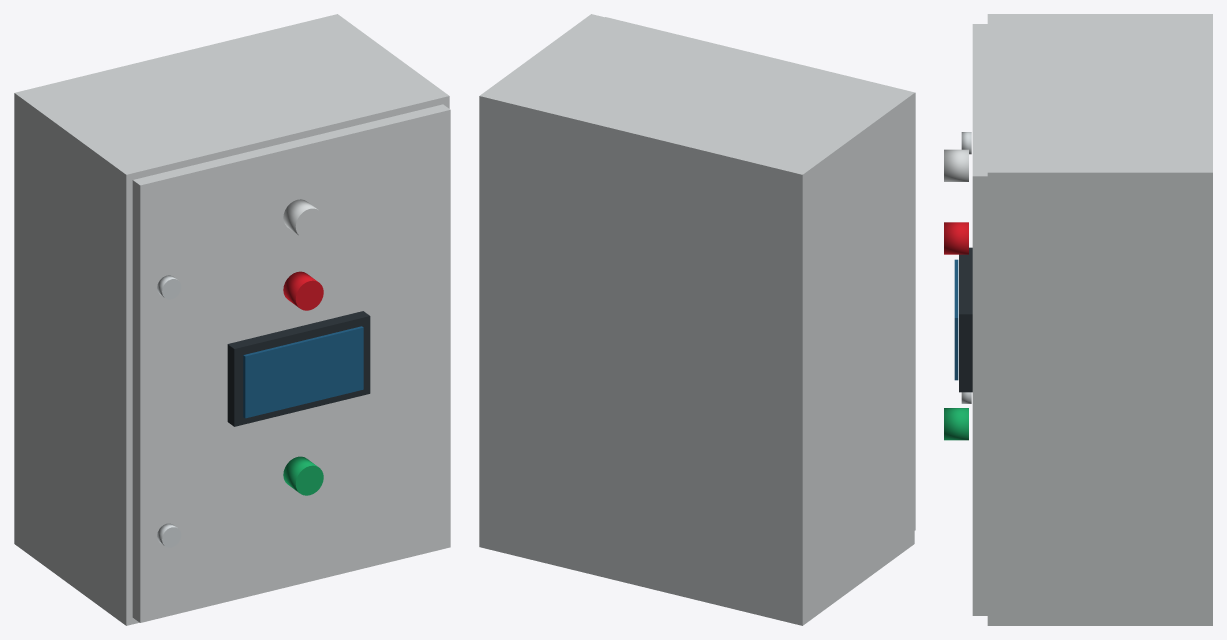
The model's file is cabinet__premium-boiler.glb.
3 renders of one model, left to right at view 1: azimuth 30°, elevation 25°; view 2: azimuth 150°, elevation 25°; view 3: azimuth 270°, elevation 25°, orthographic.
Parts seen in each view (by area): view 1: Дверь, Корпус шкафа, Экран, Панель управления, Пуск, Сеть, Авария; view 2: Корпус шкафа, Дверь; view 3: Корпус шкафа, Дверь, Панель управления, Сеть, Авария, Пуск, Экран.
Part boxes in pixels (bbox=[...]): Дверь: bbox=[132, 104, 450, 622]; Корпус шкафа: bbox=[14, 14, 449, 625]; Экран: bbox=[243, 326, 363, 418]; Панель управления: bbox=[227, 311, 370, 426]; Пуск: bbox=[283, 456, 323, 495]; Сеть: bbox=[283, 199, 323, 238]; Авария: bbox=[283, 271, 323, 310]; Корпус шкафа: bbox=[479, 14, 914, 625]; Дверь: bbox=[605, 17, 915, 530]; Корпус шкафа: bbox=[987, 14, 1212, 625]; Дверь: bbox=[972, 24, 987, 615]; Панель управления: bbox=[959, 247, 972, 392]; Сеть: bbox=[944, 149, 968, 181]; Авария: bbox=[944, 222, 968, 254]; Пуск: bbox=[944, 408, 968, 440]; Экран: bbox=[954, 259, 958, 380].
Bounding box in the file's own units: 0.3 × 0.418 × 0.215.
